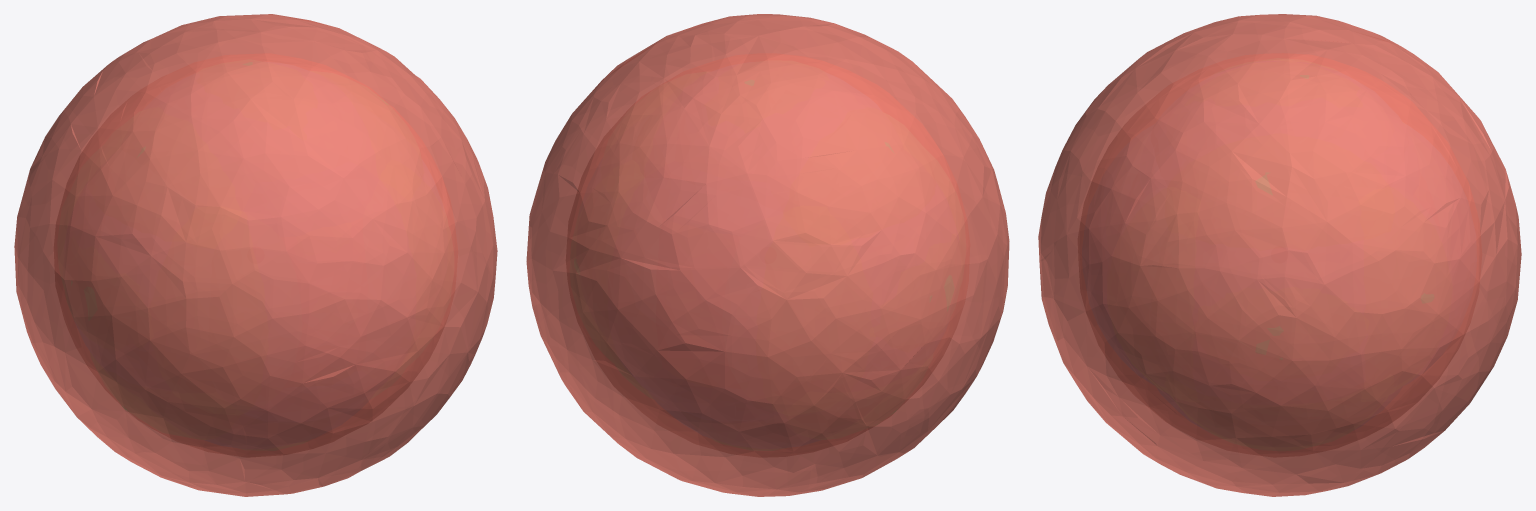
3 renders of one model, left to right at view 1: azimuth 30°, elevation 25°; view 2: azimuth 150°, elevation 25°; view 3: azimuth 270°, elevation 25°, orthographic.
Parts seen in each view (by area): view 1: Ta_n6_s_ml0_node, Ta_n5_s_ml0_node; view 2: Ta_n6_s_ml0_node, Ta_n5_s_ml0_node; view 3: Ta_n6_s_ml0_node, Ta_n5_s_ml0_node.
Boxes of the visible parts, x1,y1,x2,y2 form: Ta_n6_s_ml0_node: [14, 14, 497, 496]; Ta_n5_s_ml0_node: [54, 53, 457, 457]; Ta_n6_s_ml0_node: [526, 14, 1009, 496]; Ta_n5_s_ml0_node: [566, 53, 969, 457]; Ta_n6_s_ml0_node: [1038, 14, 1521, 496]; Ta_n5_s_ml0_node: [1078, 53, 1481, 457].
Bounding box in the file's own units: 3.06 × 3.06 × 3.06.
